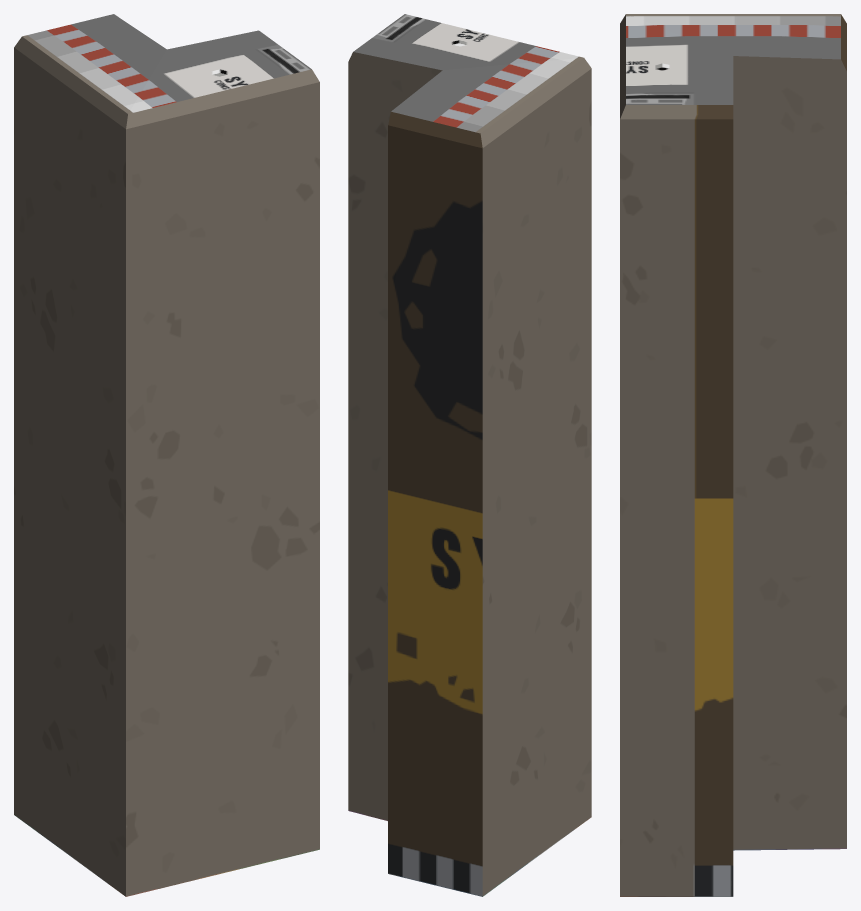
Rendered from SM_Bld_Base_Pillar_Half_02.glb.
3 renders of one model, left to right at view 1: azimuth 30°, elevation 25°; view 2: azimuth 150°, elevation 25°; view 3: azimuth 270°, elevation 25°, orthographic. The views are drawn at different scales.
Parts seen in each view (by area): view 1: SM_Bld_Base_Pillar_Half_02; view 2: SM_Bld_Base_Pillar_Half_02; view 3: SM_Bld_Base_Pillar_Half_02.
Boxes of the visible parts, x1,y1,x2,y2 form: SM_Bld_Base_Pillar_Half_02: (14,14,319,896); SM_Bld_Base_Pillar_Half_02: (348,14,591,896); SM_Bld_Base_Pillar_Half_02: (620,14,846,896).
Bounding box in the file's own units: 0.3912 × 1.51 × 0.3912.
1 material, 1 textured.
